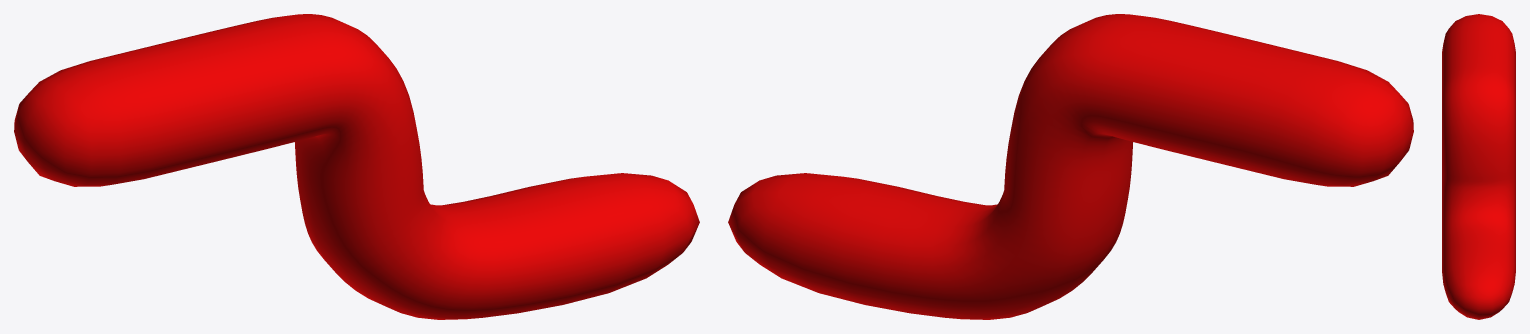
File: mRNA (1).fbx
3 renders of one model, left to right at view 1: azimuth 30°, elevation 25°; view 2: azimuth 150°, elevation 25°; view 3: azimuth 270°, elevation 25°, orthographic. The views are drawn at different scales.
Parts seen in each view (by area): view 1: pCube1; view 2: pCube1; view 3: pCube1.
Part boxes in pixels (box(x1,y1,x2,y2)): pCube1: box(14, 14, 699, 319); pCube1: box(728, 14, 1413, 319); pCube1: box(1442, 14, 1515, 319).
Size of the model in its own units: 3.78 by 1.81 by 0.7178.
